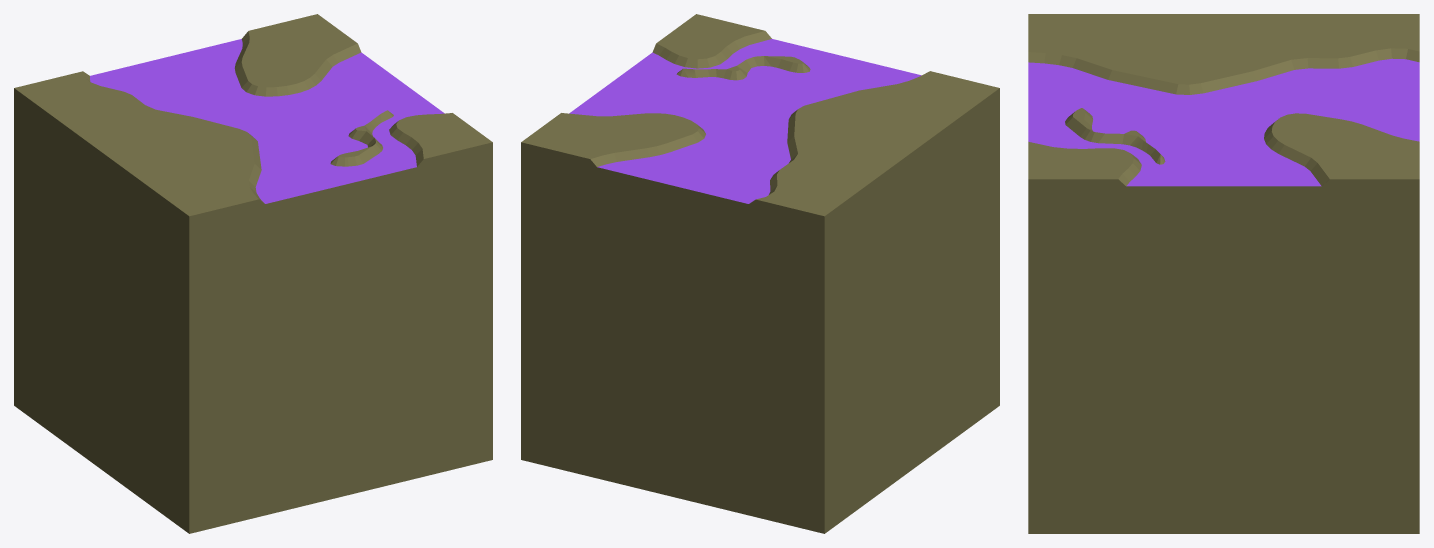
The model's file is tile_toxic_5_01.fbx.
The picture shows the model from 3 angles, left to right: view 1: azimuth 30°, elevation 25°; view 2: azimuth 150°, elevation 25°; view 3: azimuth 270°, elevation 25°; orthographic projection. The views are drawn at different scales.
Parts seen in each view (by area): view 1: tile_toxic_5_01; view 2: tile_toxic_5_01; view 3: tile_toxic_5_01.
Part boxes in pixels (box(x1,y1,x2,y2)): tile_toxic_5_01: box(14, 14, 492, 533); tile_toxic_5_01: box(521, 14, 999, 533); tile_toxic_5_01: box(1028, 14, 1419, 533).
Size of the model in its own units: 100 by 100 by 100.
